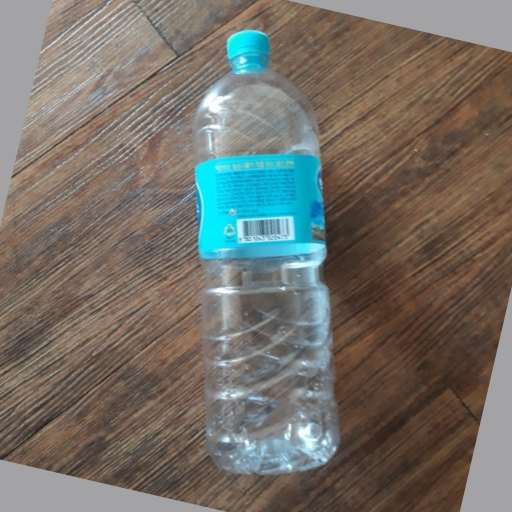Plastic_0: (190, 28, 341, 472)
